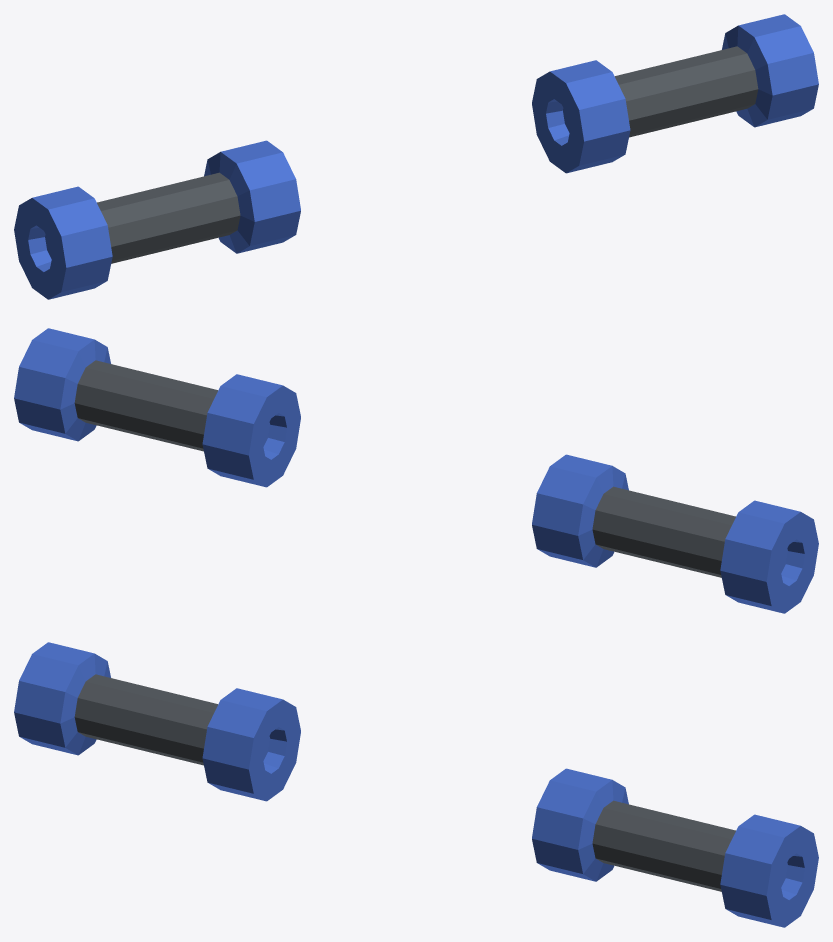
Rendered from Mothership_01_Hinges_Blue.fbx.
The picture shows the model from 3 angles, top to bottom: view 1: azimuth 30°, elevation 25°; view 2: azimuth 150°, elevation 25°; view 3: azimuth 330°, elevation 25°; orthographic projection.
Visible parts, largest first — view 1: Mothership_01_Hinges_Blue; view 2: Mothership_01_Hinges_Blue; view 3: Mothership_01_Hinges_Blue.
Boxes of the visible parts, left/top/right/bottom form: Mothership_01_Hinges_Blue: left=14, top=14, right=818, bottom=299; Mothership_01_Hinges_Blue: left=14, top=328, right=818, bottom=613; Mothership_01_Hinges_Blue: left=14, top=642, right=818, bottom=927.
Size of the model in its own units: 965 by 111 by 116.
Materials: 1 (1 with a texture image).
